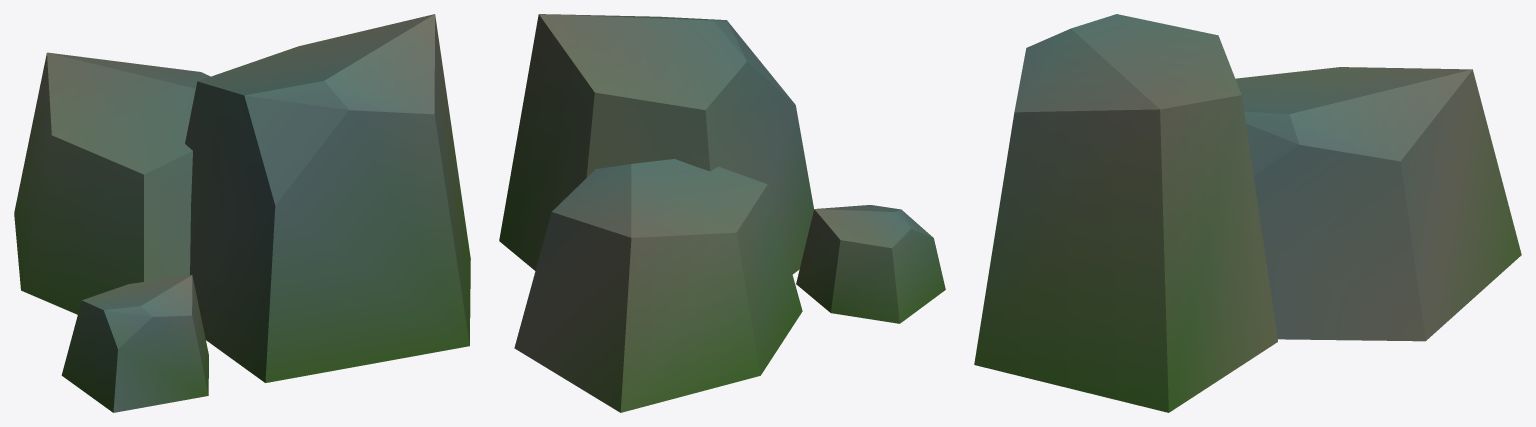
File: Rubble_Rock_gray.fbx
3 views of the same model, side by side, from view 1: azimuth 30°, elevation 25°; view 2: azimuth 150°, elevation 25°; view 3: azimuth 270°, elevation 25° (orthographic). The views are drawn at different scales.
Visible parts, largest first — view 1: Rubble_Rock_gray_2__1_; view 2: Rubble_Rock_gray_2__1_; view 3: Rubble_Rock_gray_2__1_.
Boxes of the visible parts, x1,y1,x2,y2 form: Rubble_Rock_gray_2__1_: (14,14,470,412); Rubble_Rock_gray_2__1_: (499,14,945,412); Rubble_Rock_gray_2__1_: (974,14,1521,412).
Size of the model in its own units: 369 by 213 by 375.
